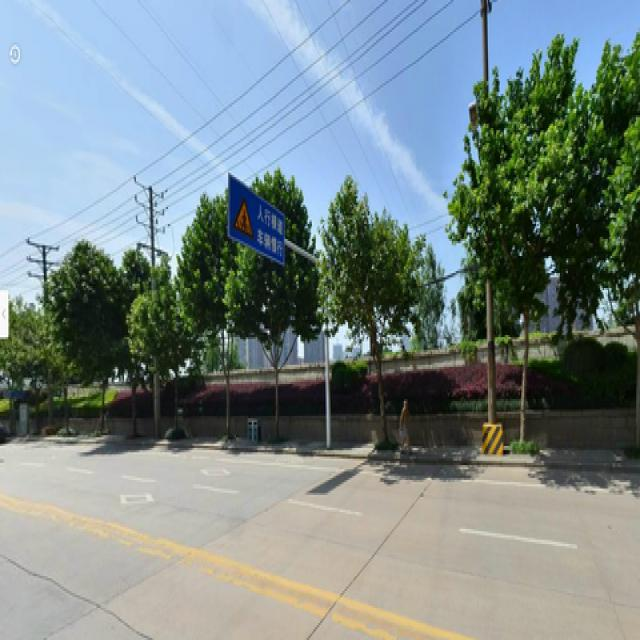meta: (332, 194, 419, 412), (186, 222, 246, 431)
